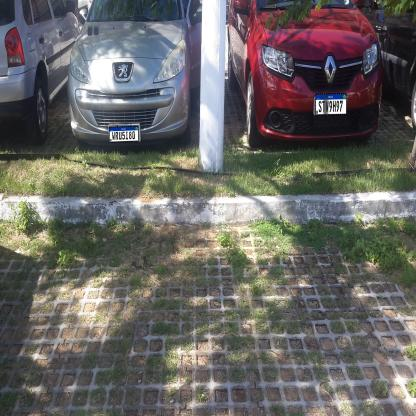PlacaM: (315, 93, 347, 115), (109, 126, 139, 142)
